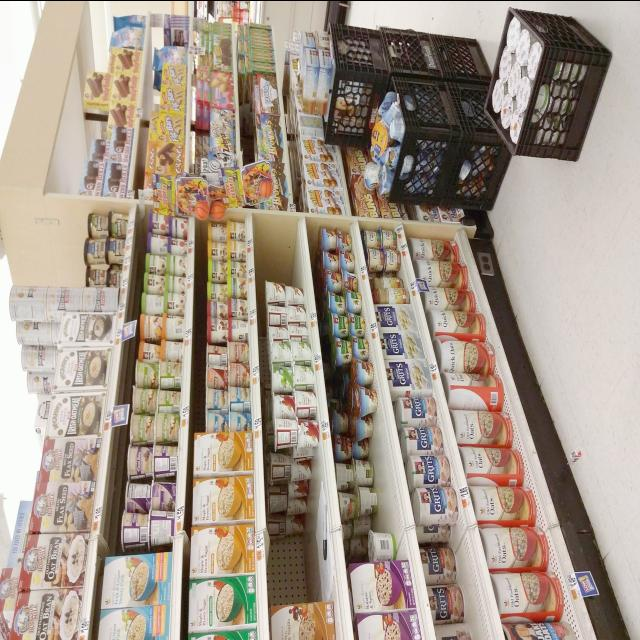empty_space: (275, 484, 321, 596), (268, 227, 300, 269), (377, 427, 391, 513)
